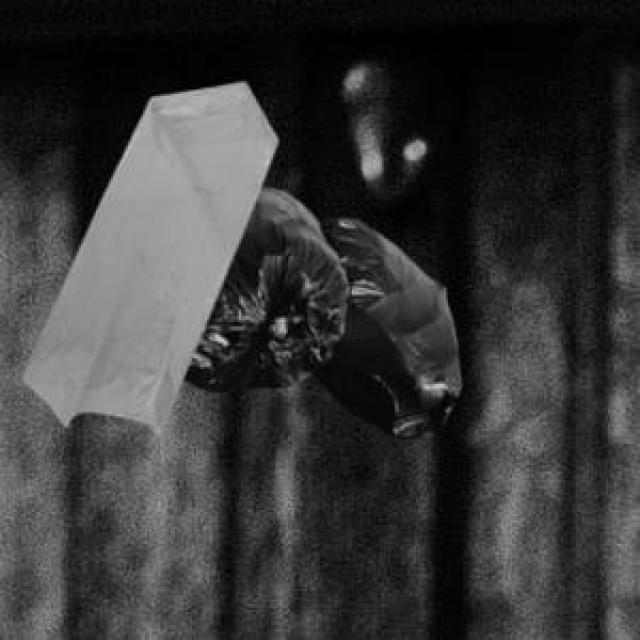miscellaneous trash: (179, 184, 457, 435)
